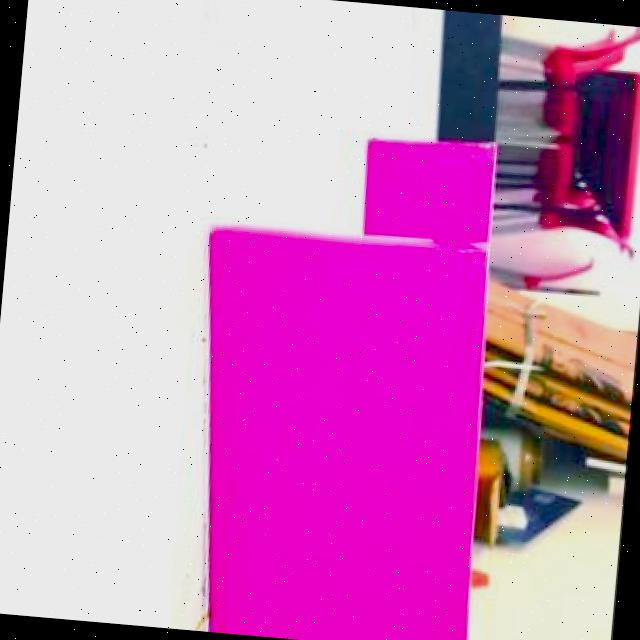xparking: (181, 226, 494, 640), (361, 133, 498, 240)
